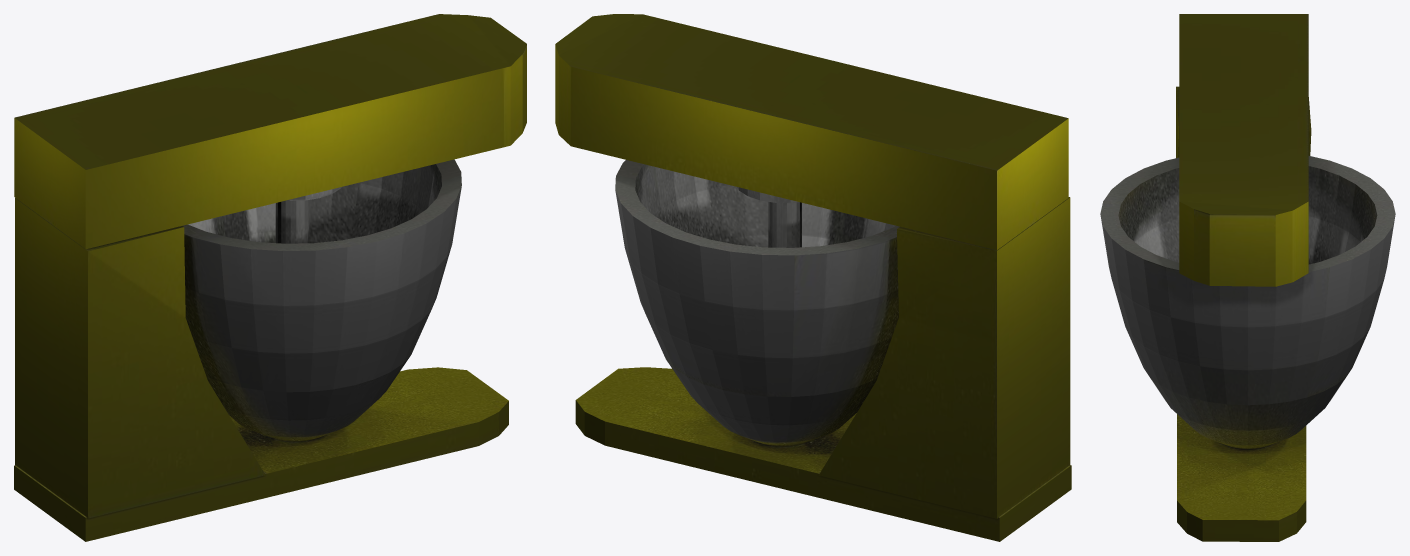
File: mixer5.dae
3 views of the same model, side by side, from view 1: azimuth 30°, elevation 25°; view 2: azimuth 150°, elevation 25°; view 3: azimuth 270°, elevation 25° (orthographic). The views are drawn at different scales.
Visible parts, largest first — view 1: Cylinder_002; view 2: Cylinder_002; view 3: Cylinder_002.
Boxes of the visible parts, x1=… form: Cylinder_002: x1=14, y1=14, x2=526, y2=541; Cylinder_002: x1=555, y1=14, x2=1071, y2=541; Cylinder_002: x1=1100, y1=14, x2=1395, y2=541.
Size of the model in its own units: 3.6 by 2.22 by 2.79.
Materials: 1 (1 with a texture image).
